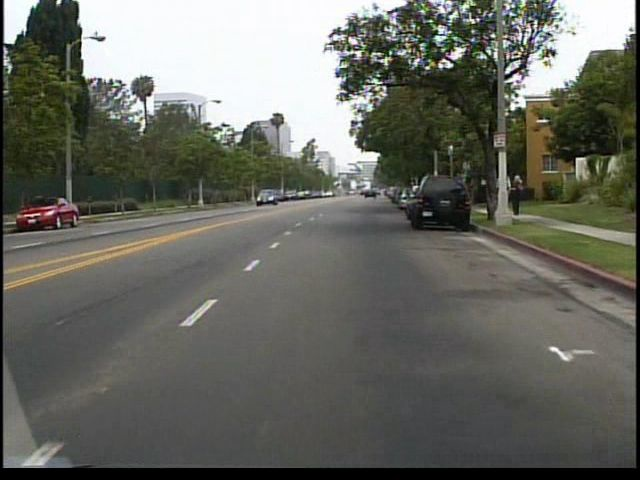person: (509, 171, 527, 218), (495, 166, 512, 214)
